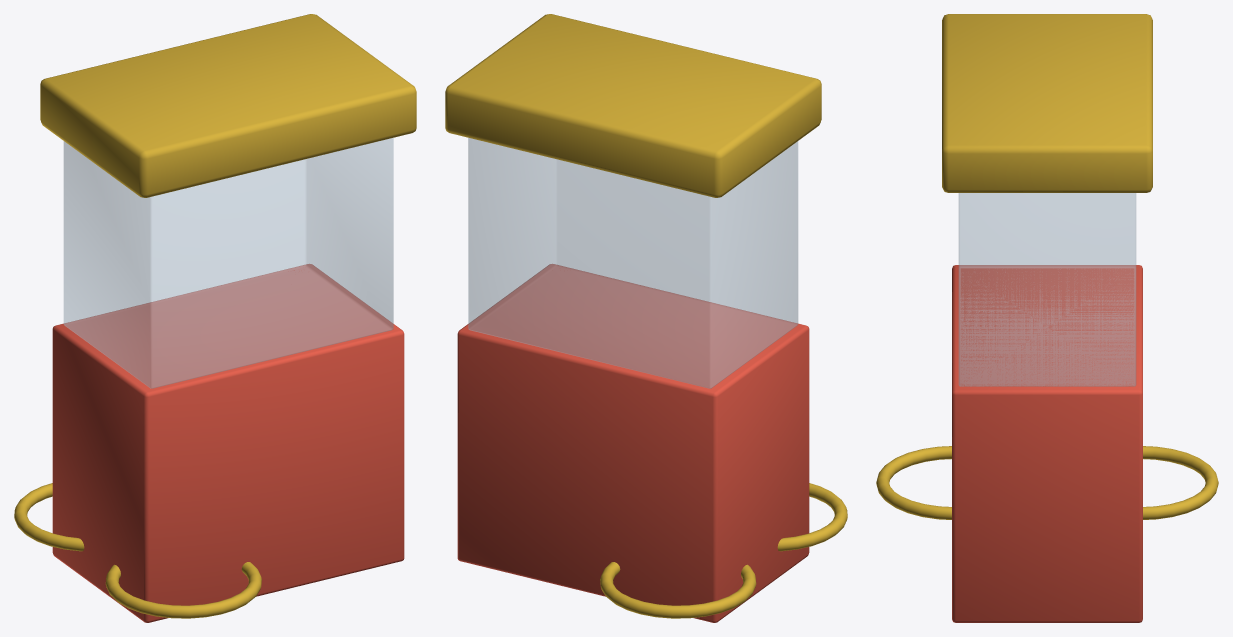
The model's file is fair-popcorn-26e0606bdffd.glb.
The picture shows the model from 3 angles, left to right: view 1: azimuth 30°, elevation 25°; view 2: azimuth 150°, elevation 25°; view 3: azimuth 270°, elevation 25°; orthographic projection.
Parts seen in each view (by area): view 1: Lower_Cart, Glass_Kettle_Box, Mesh_Trophy_Gold_Brass; view 2: Lower_Cart, Glass_Kettle_Box, Mesh_Trophy_Gold_Brass; view 3: Lower_Cart, Mesh_Trophy_Gold_Brass, Glass_Kettle_Box.
Boxes of the visible parts, x1=… form: Lower_Cart: x1=52, y1=264, x2=404, y2=622; Glass_Kettle_Box: x1=63, y1=138, x2=393, y2=388; Mesh_Trophy_Gold_Brass: x1=14, y1=14, x2=416, y2=618; Lower_Cart: x1=457, y1=264, x2=809, y2=622; Glass_Kettle_Box: x1=468, y1=138, x2=798, y2=388; Mesh_Trophy_Gold_Brass: x1=445, y1=14, x2=847, y2=618; Lower_Cart: x1=952, y1=265, x2=1142, y2=622; Mesh_Trophy_Gold_Brass: x1=876, y1=14, x2=1218, y2=519; Glass_Kettle_Box: x1=958, y1=193, x2=1136, y2=386.
Bounding box in the file's own units: 1.05 × 1.61 × 1.04.
